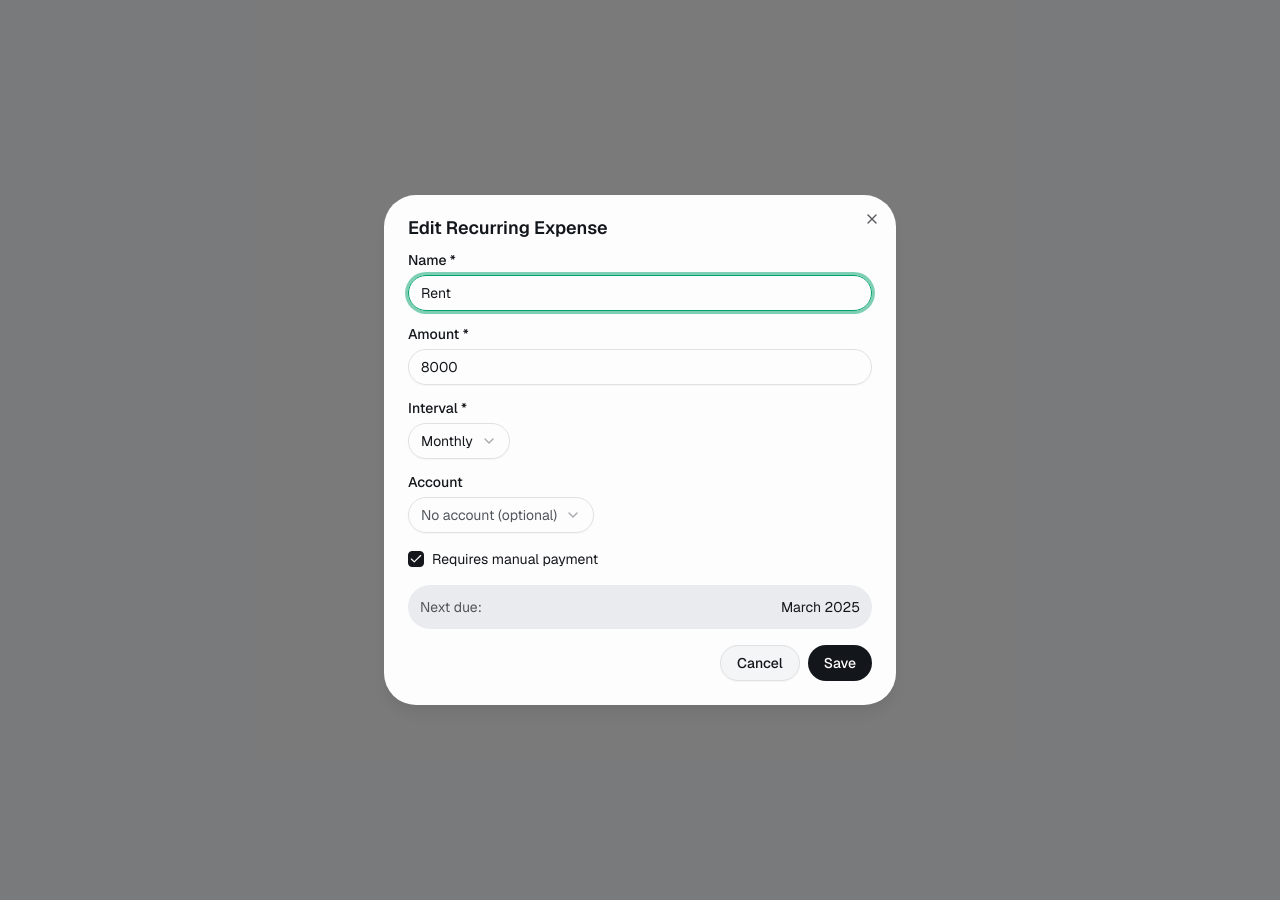
EditRecurringExpenseModal › shows validation error when name is cleared
The image size is (1280, 900).
Clear the field labelled "Name *" at (640, 293), box [408, 275, 872, 311]
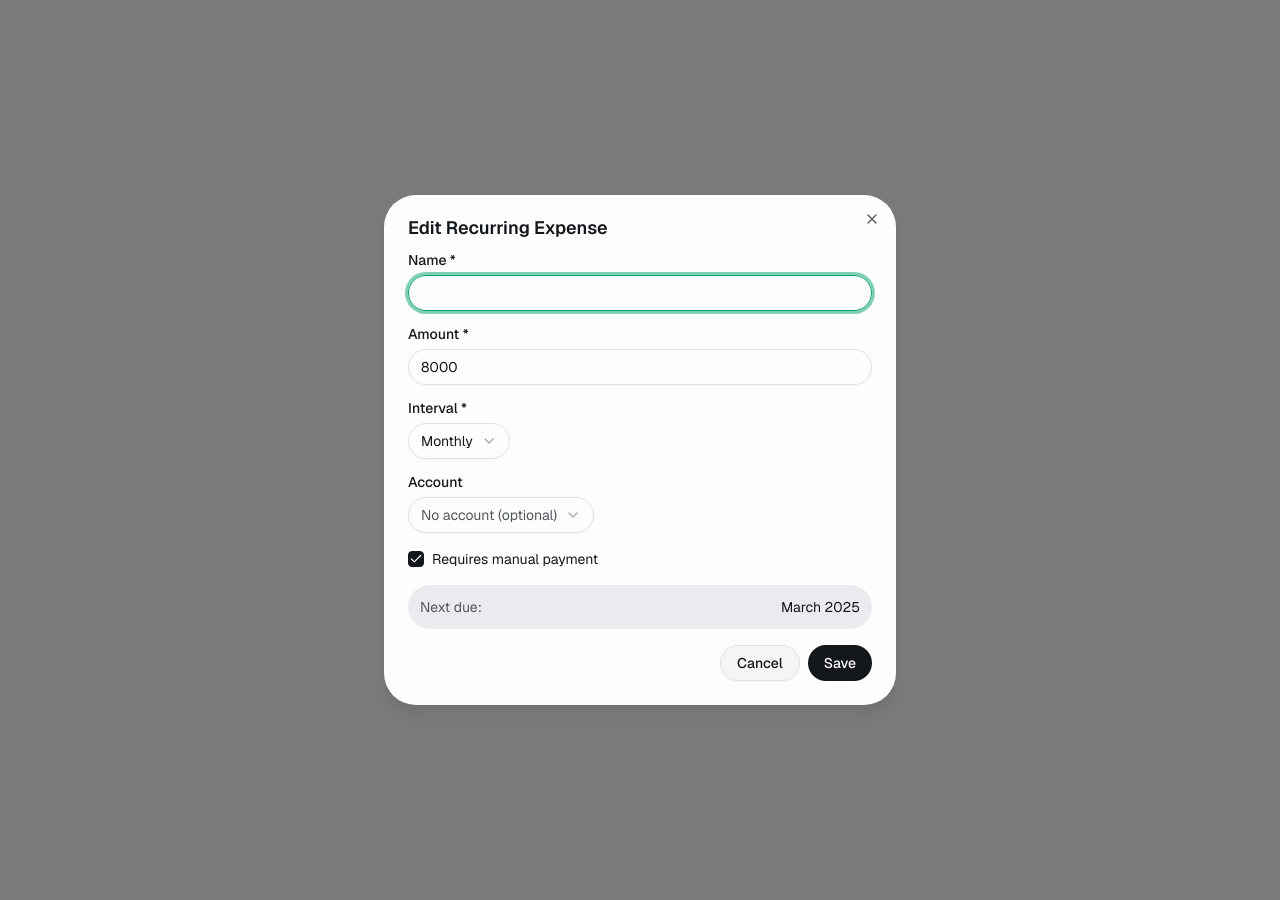
Click the button "Save" at (840, 663), box [808, 645, 872, 681]
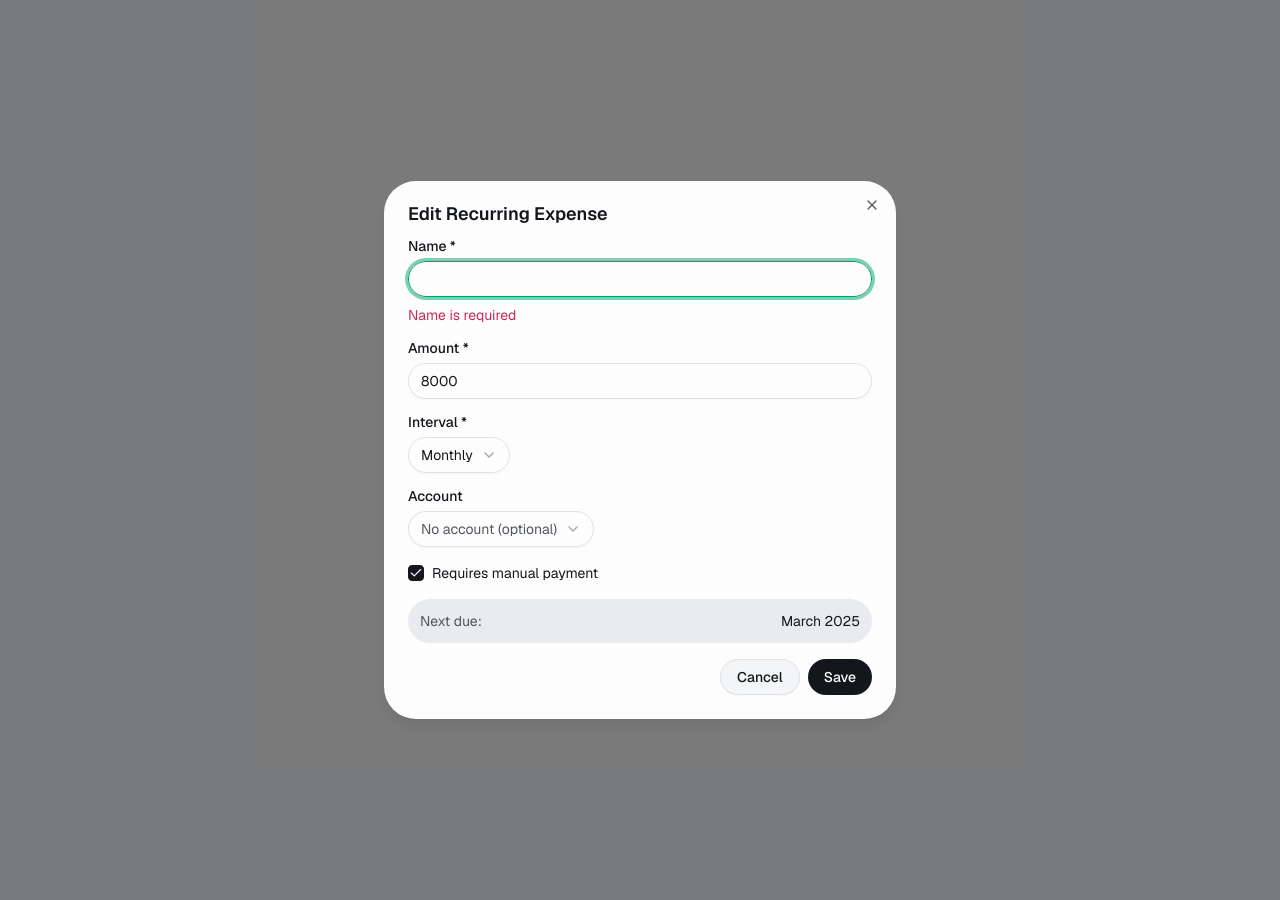
Expected: the text "Name is required" is shown, [408, 306, 516, 324]
